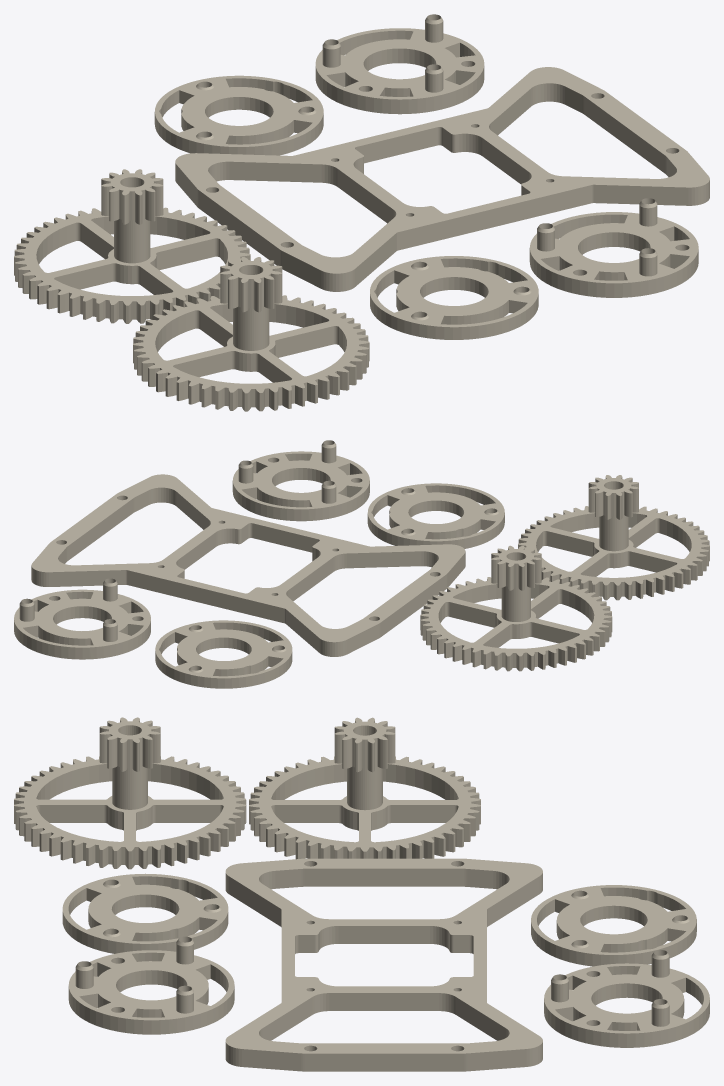
The model's file is lfr-gears-and-pcb-mount.glb.
3 renders of one model, top to bottom at view 1: azimuth 30°, elevation 25°; view 2: azimuth 150°, elevation 25°; view 3: azimuth 270°, elevation 25°, orthographic. The views are drawn at different scales.
Parts seen in each view (by area): view 1: 1, 6, 7, 3, 2, 4, 5; view 2: 1, 7, 6, 2, 3, 5, 4; view 3: 1, 6, 7, 2, 3, 5, 4.
Part boxes in pixels (x1,y1,x2,y2): 1: (175, 67, 709, 291); 6: (133, 257, 369, 411); 7: (14, 169, 250, 323); 3: (315, 14, 484, 114); 2: (529, 198, 698, 297); 4: (370, 256, 538, 339); 5: (154, 75, 323, 155); 1: (31, 474, 465, 656); 7: (420, 545, 612, 671); 6: (518, 475, 709, 600); 2: (232, 440, 369, 521); 3: (14, 578, 150, 659); 5: (155, 620, 292, 688); 4: (367, 483, 504, 548); 1: (225, 858, 542, 1071); 6: (14, 717, 246, 869); 7: (249, 717, 480, 859); 2: (68, 936, 234, 1034); 3: (544, 950, 709, 1047); 5: (531, 885, 696, 966); 4: (62, 873, 228, 953).
Size of the model in its own units: 0.1788 by 0.025 by 0.1751.
